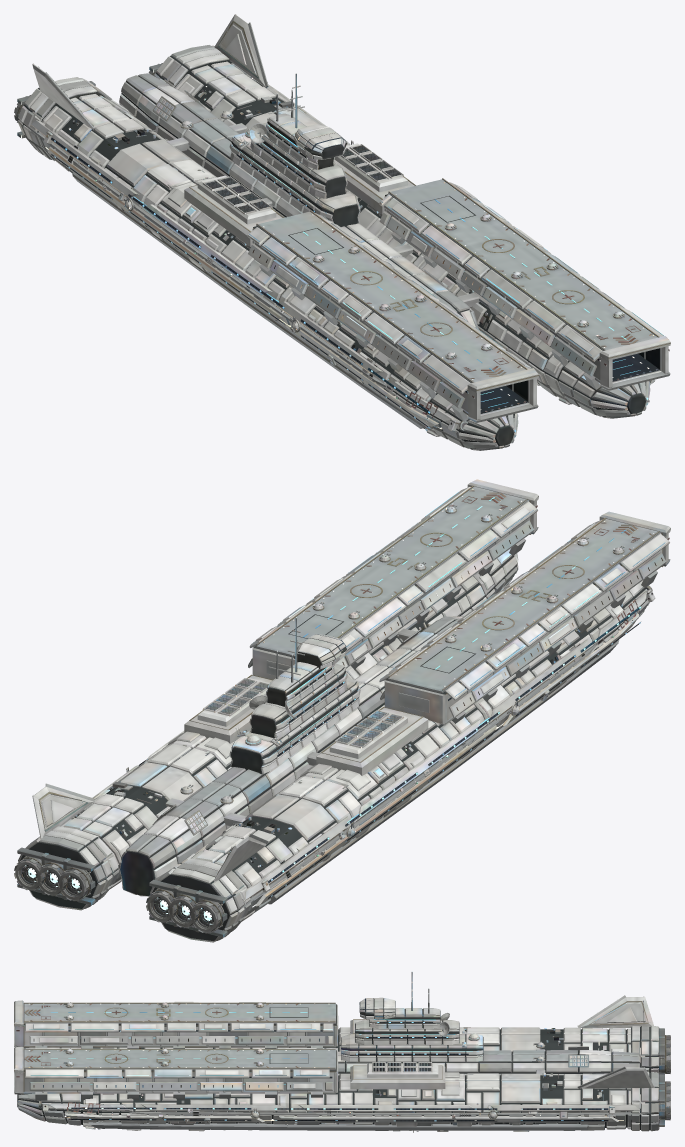
File: aegis_carrier.glb
3 views of the same model, one above another, from view 1: azimuth 30°, elevation 25°; view 2: azimuth 150°, elevation 25°; view 3: azimuth 270°, elevation 25° (orthographic). The views are drawn at different scales.
Visible parts, largest first — view 1: aegis_carrier_hull, aegis_carrier_glass; view 2: aegis_carrier_hull; view 3: aegis_carrier_hull, aegis_carrier_glass.
Part boxes in pixels (x1,y1,x2,y2): aegis_carrier_hull: (14,14,670,450); aegis_carrier_glass: (51,130,426,425); aegis_carrier_hull: (14,479,670,942); aegis_carrier_hull: (14,971,670,1132); aegis_carrier_glass: (68,999,607,1120).
Size of the model in its own units: 79.89 by 62.98 by 276.
Materials: 3 (1 with a texture image).
